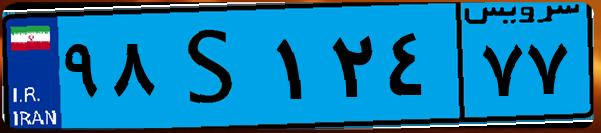1: (270, 28, 330, 110)
2: (330, 28, 385, 110)
4: (385, 28, 445, 110)
7: (475, 38, 525, 113), (525, 38, 570, 115)
8: (110, 28, 158, 98)
9: (57, 26, 110, 100)
S: (158, 12, 270, 120)
